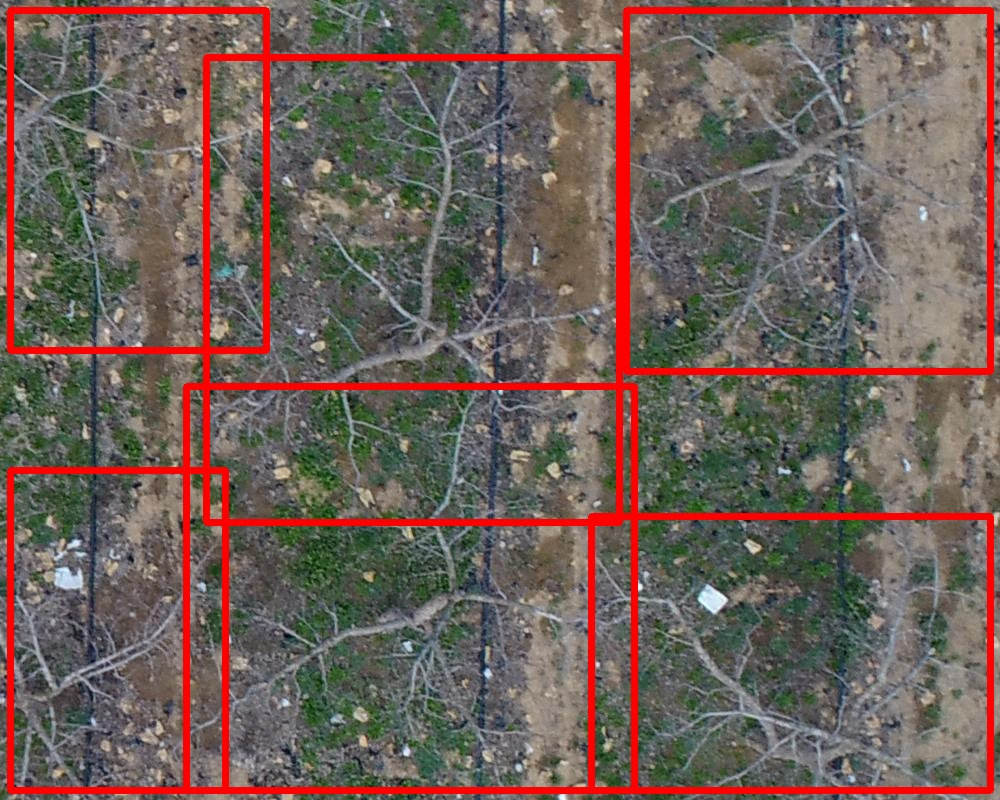apple: (206, 57, 619, 522), (186, 386, 634, 790), (626, 10, 990, 371), (591, 516, 990, 790), (10, 10, 266, 350), (10, 470, 225, 790)
